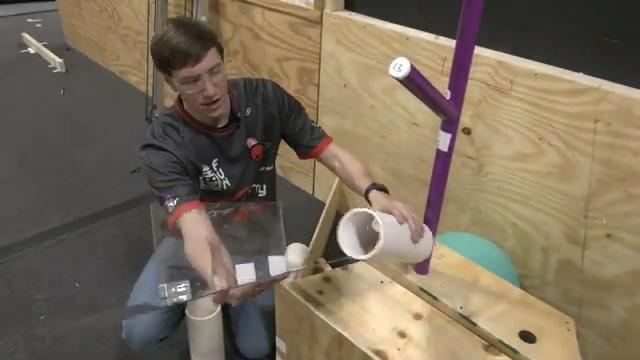CORAL: (335, 205, 433, 264), (184, 296, 227, 360)
